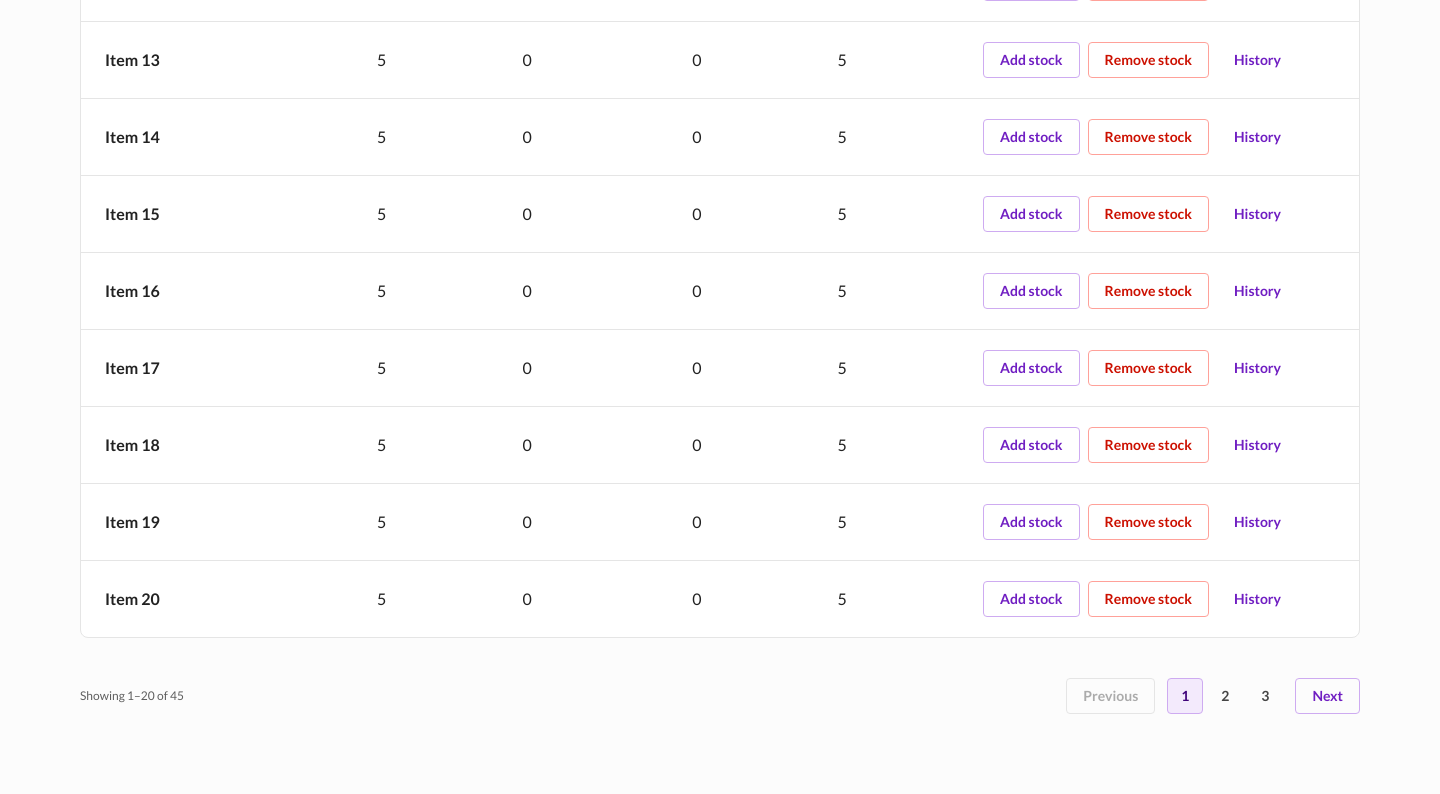
it: EquipmentInventoryView — pagination › shows 20 items a page: 20, then 20, then 5 of 45
This screenshot has width=1440, height=794.
(page scrolled)
Click the button named "Page 2".
click(1225, 696)  # box x1=1207 y1=678 x2=1243 y2=714
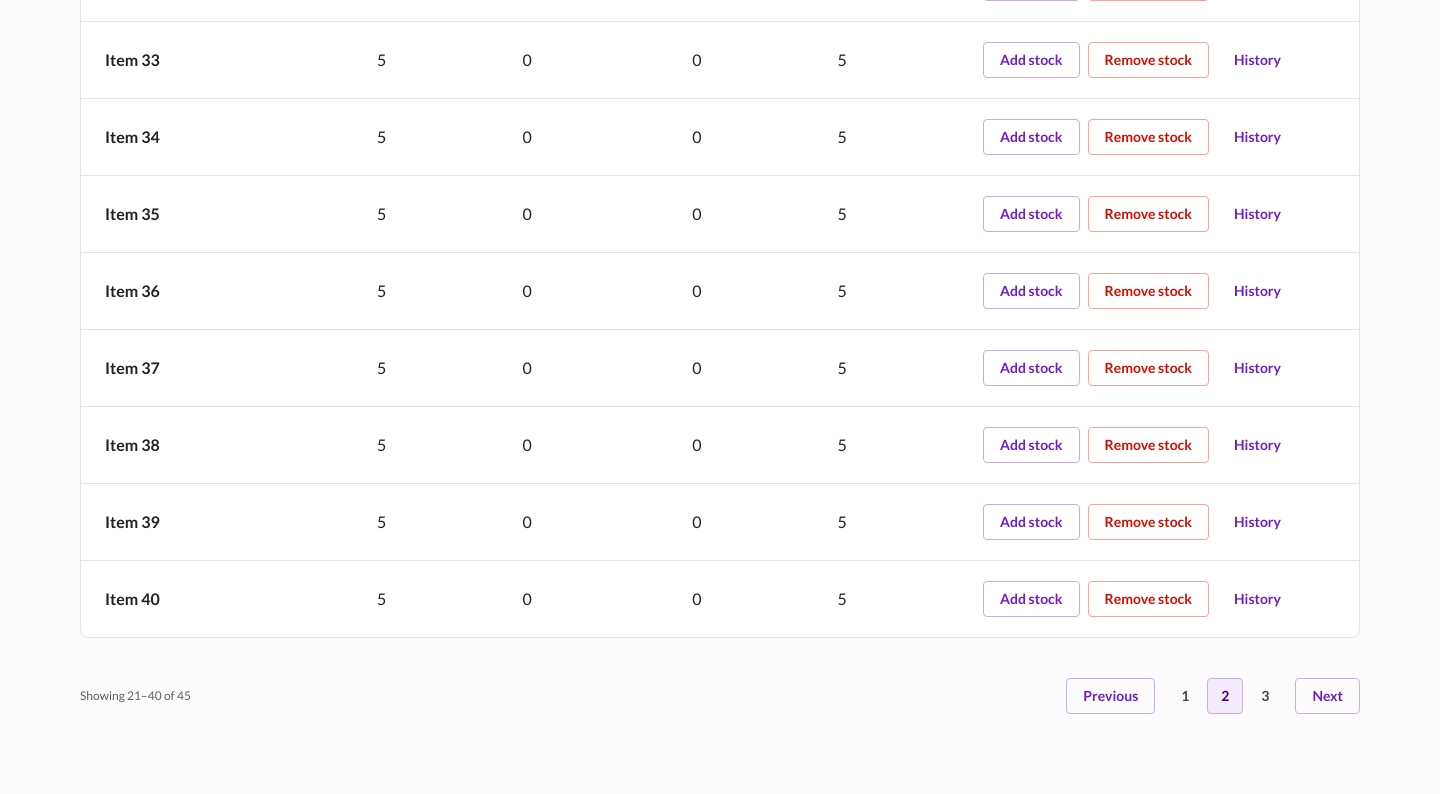
Click the button named "Page 3".
click(1265, 696)  # box x1=1247 y1=678 x2=1283 y2=714
(page scrolled)
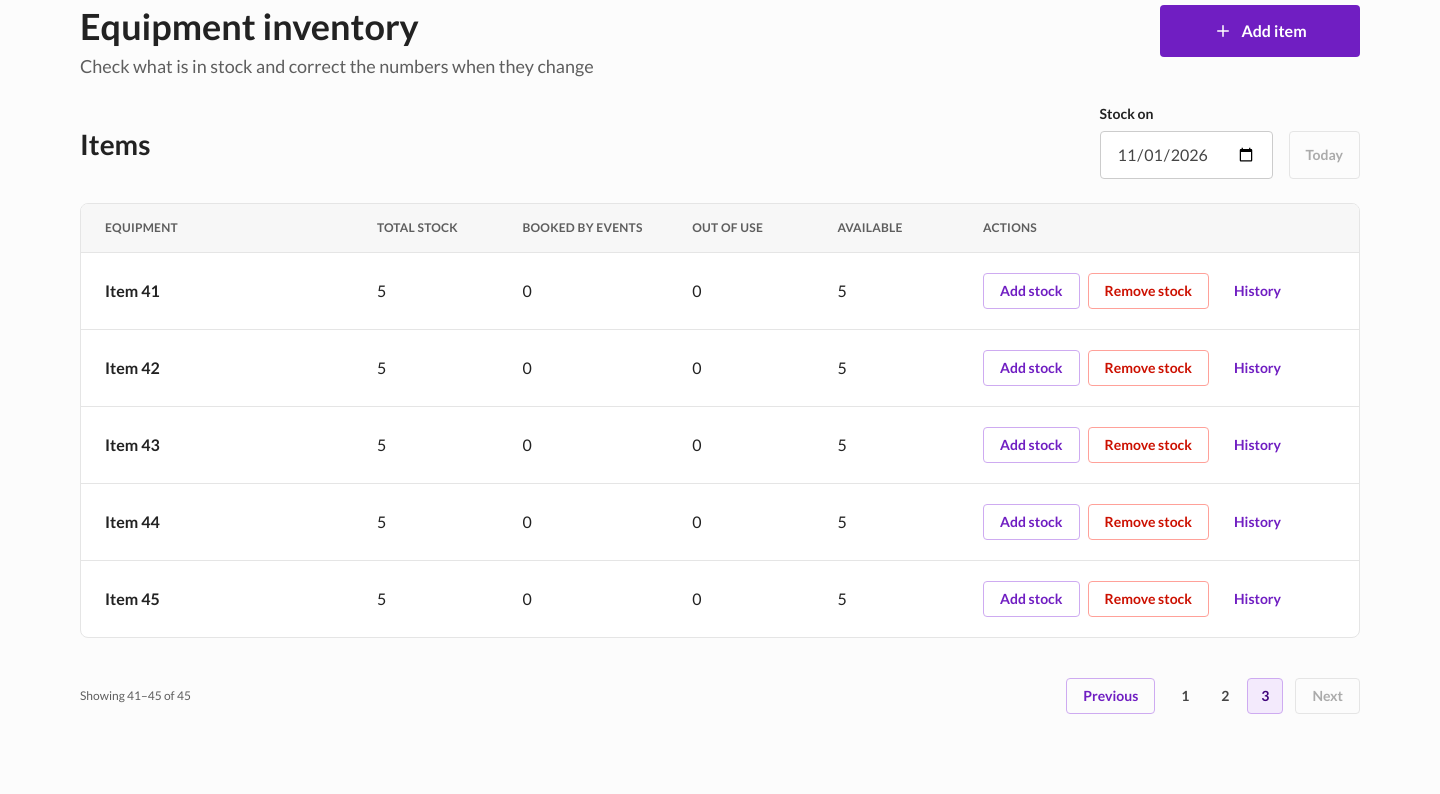
Result: the text with test id "pagination-summary" reads "Showing 41–45 of 45" at x1=80 y1=688 x2=191 y2=703
